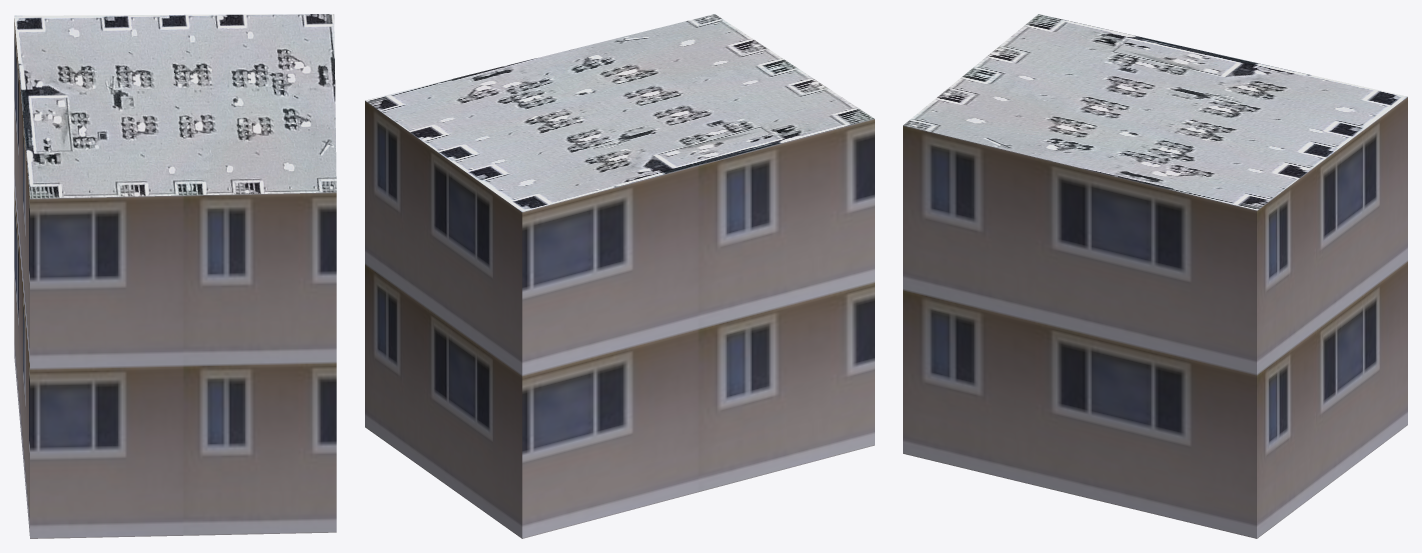
Rendered from ResTex__910.fbx.
3 renders of one model, left to right at view 1: azimuth 30°, elevation 25°; view 2: azimuth 150°, elevation 25°; view 3: azimuth 270°, elevation 25°, orthographic. The views are drawn at different scales.
Visible parts, largest first — view 1: CityEngineMaterial_21_m, CityEngineMaterial_8_m; view 2: CityEngineMaterial_21_m, CityEngineMaterial_8_m; view 3: CityEngineMaterial_21_m, CityEngineMaterial_8_m.
Part boxes in pixels (bbox=[...]): CityEngineMaterial_21_m: bbox=[14, 18, 336, 538]; CityEngineMaterial_8_m: bbox=[14, 14, 336, 198]; CityEngineMaterial_21_m: bbox=[365, 100, 874, 538]; CityEngineMaterial_8_m: bbox=[365, 14, 874, 211]; CityEngineMaterial_21_m: bbox=[903, 97, 1407, 538]; CityEngineMaterial_8_m: bbox=[903, 14, 1407, 210].
Size of the model in its own units: 7.7 by 6 by 8.36.
2 materials, 2 textured.
